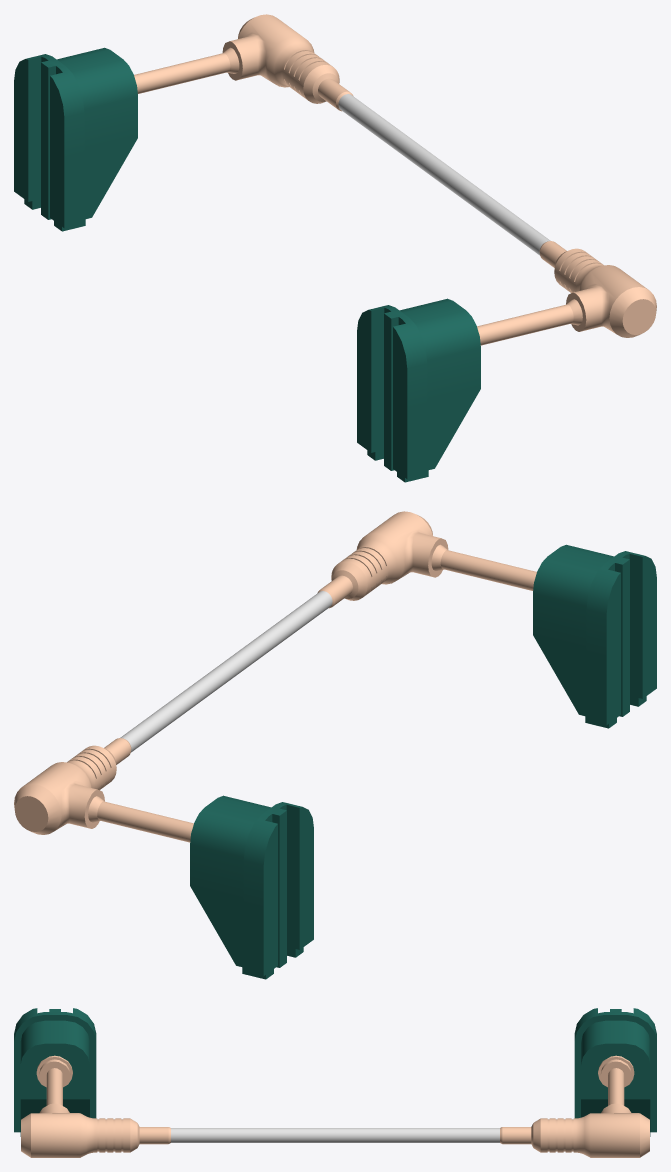
The model's file is Trapez_01_mesh.fbx.
3 renders of one model, top to bottom at view 1: azimuth 30°, elevation 25°; view 2: azimuth 150°, elevation 25°; view 3: azimuth 270°, elevation 25°, orthographic. The views are drawn at different scales.
Visible parts, largest first — view 1: Trapez.001; view 2: Trapez.001; view 3: Trapez.001.
Boxes of the visible parts, x1,y1,x2,y2 form: Trapez.001: (14, 14, 656, 482); Trapez.001: (14, 511, 656, 979); Trapez.001: (14, 1008, 656, 1157).
Bounding box in the file's own units: 1.09 × 1.95 × 5.11.
